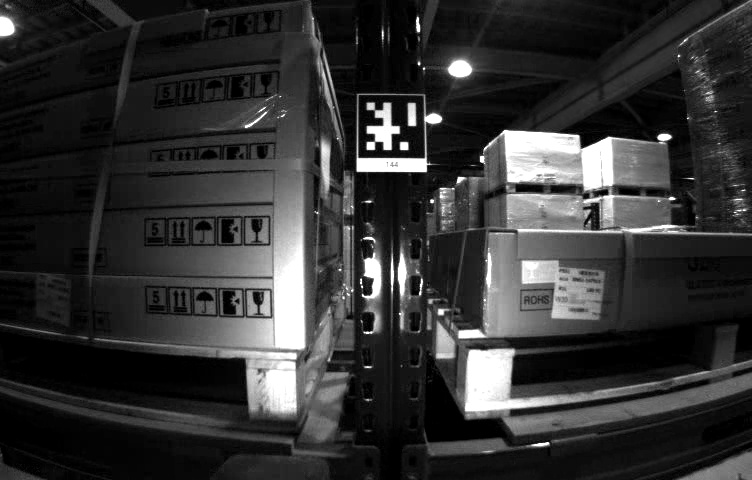True Barcode: (554, 267, 600, 321), (34, 273, 74, 333)
